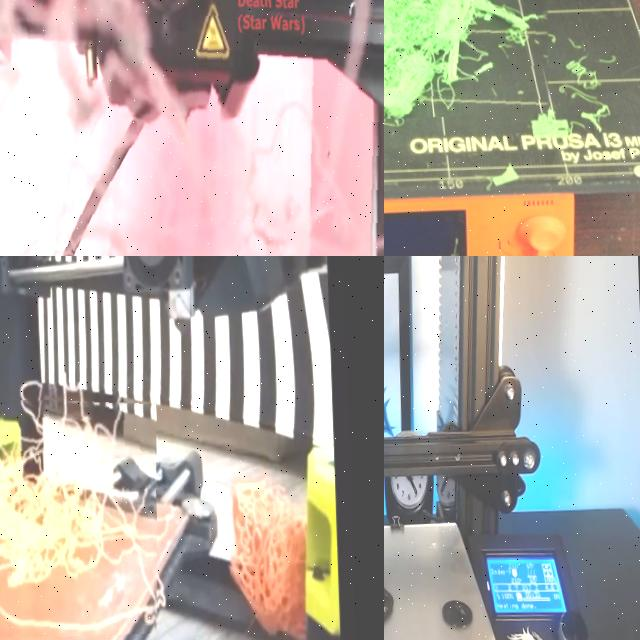spaghetti: (0, 0, 384, 256), (0, 387, 163, 640), (384, 0, 554, 123), (564, 48, 616, 90), (580, 106, 634, 138)
